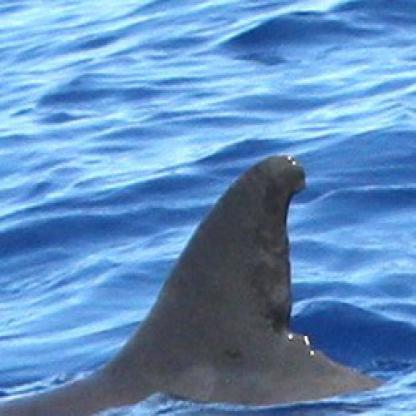dolphin-whale: (2, 152, 390, 414)
